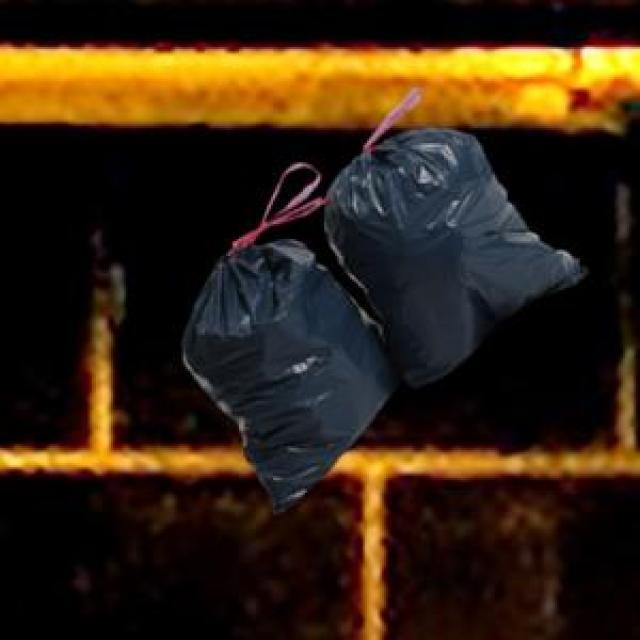Vinyl: (184, 130, 581, 511)
